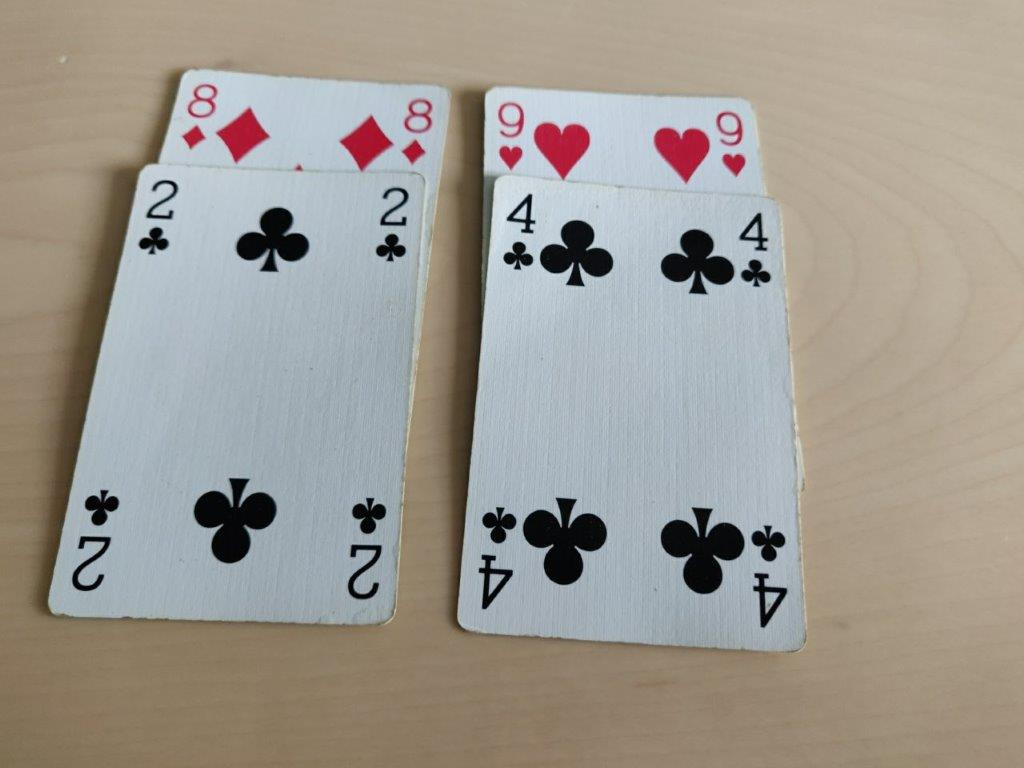2C: (136, 176, 185, 272), (373, 181, 417, 276)
4C: (499, 187, 537, 284), (736, 203, 774, 300)
8D: (176, 72, 219, 161), (397, 86, 440, 175)
9H: (488, 86, 531, 173), (709, 102, 752, 189)
